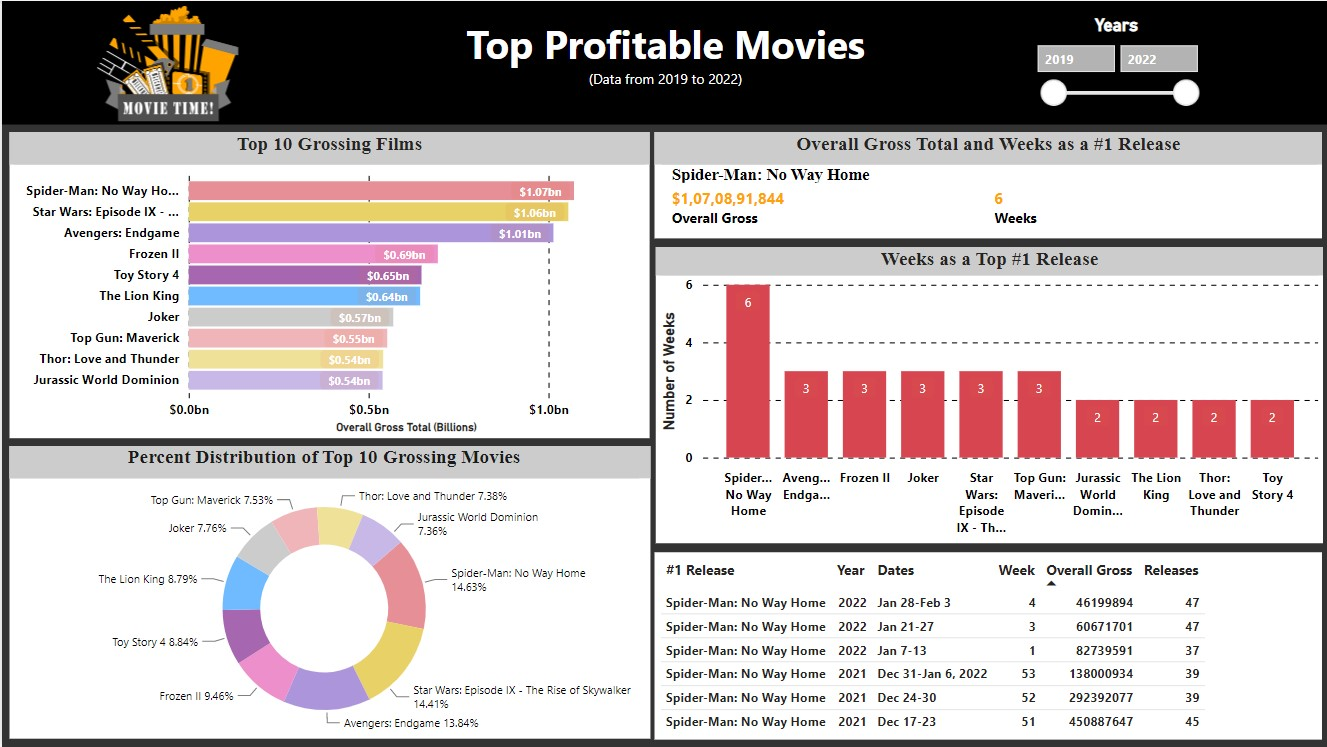

Layout of this report page (visuals, bound fields, positions):
{"tool":"powerbi","page":{"name":"Page 1","canvas":[1280,720],"ordinal":0},"visuals":[{"type":"shape","box":[0,0,1280,118.9],"z":0},{"type":"textbox","box":[434.1,10.6,411.8,99.6],"z":1000},{"type":"columnChart","title":"Weeks as a Top #1 Release","fields":{"Category":["MoviesbyWeek.#1 Release"],"Y":["All Measures.Measure"]},"box":[630.8,237.6,644,285.8],"z":2000},{"type":"image","box":[65,0,193.2,121.2],"z":3000},{"type":"pieChart","title":"Percent Distribution of Top 10 Grossing Movies","fields":{"Category":["MoviesbyWeek.#1 Release"],"Y":["All Measures.Overall Gross"]},"box":[7.7,429,618,282],"z":4000},{"type":"clusteredBarChart","title":"Top 10 Grossing Films ","fields":{"Category":["MoviesbyWeek.#1 Release"],"Y":["All Measures.sum"]},"box":[7.2,126.6,617.5,295.5],"z":5000},{"type":"multiRowCard","title":"Overall Gross Total and Weeks as a #1 Release","fields":{"Values":["MoviesbyWeek.#1 Release","All Measures.sum","All Measures.Measure"]},"box":[629.5,126.6,644,102.5],"z":6000},{"type":"tableEx","fields":{"Values":["MoviesbyWeek.#1 Release","MoviesbyWeek.Year","MoviesbyWeek.Dates","MoviesbyWeek.Week","MoviesbyWeek.Overall Gross","MoviesbyWeek.Releases"]},"box":[629.5,531.9,644,180.9],"z":7000},{"type":"slicer","title":"Years","fields":{"Values":["MoviesbyWeek.Year"]},"box":[986.9,13.2,177.4,94],"z":8000}]}

Visuals, with their boxes in screenshot pixels (x1, y1, x2, y2), scaled from the page's 1280x720 canvas onto the 1327x747 screenshot:
shape: <box>0,0,1326,123</box>
textbox: <box>450,11,877,114</box>
"Weeks as a Top #1 Release" columnChart: <box>654,247,1322,543</box>
image: <box>67,0,268,126</box>
"Percent Distribution of Top 10 Grossing Movies" pieChart: <box>8,445,649,738</box>
"Top 10 Grossing Films " clusteredBarChart: <box>7,131,648,438</box>
"Overall Gross Total and Weeks as a #1 Release" multiRowCard: <box>653,131,1320,238</box>
tableEx - MoviesbyWeek.#1 Release x MoviesbyWeek.Year: <box>653,552,1320,740</box>
"Years" slicer: <box>1023,14,1207,111</box>
